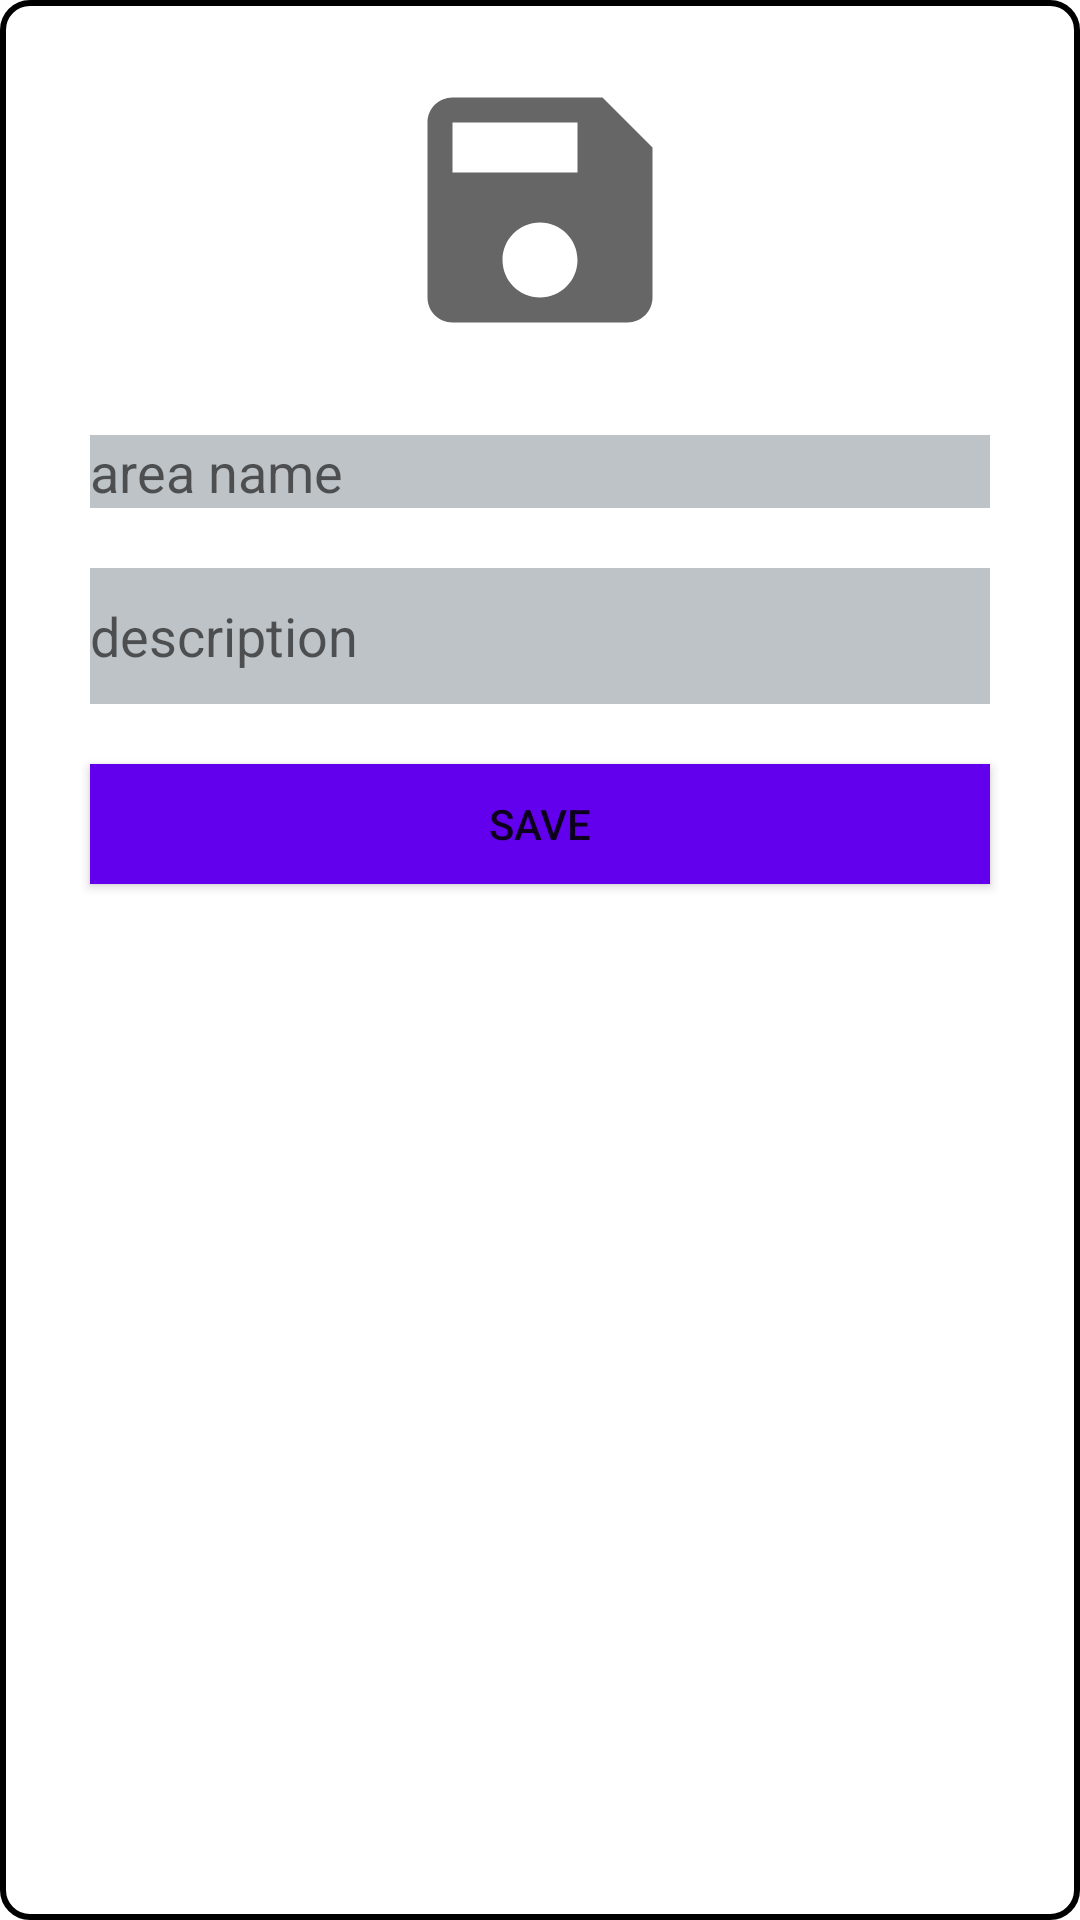

Where icons sit on this 1080px x 1920px app screen, as (x1, y1, x2, y2):
save: (427, 97, 653, 323)
